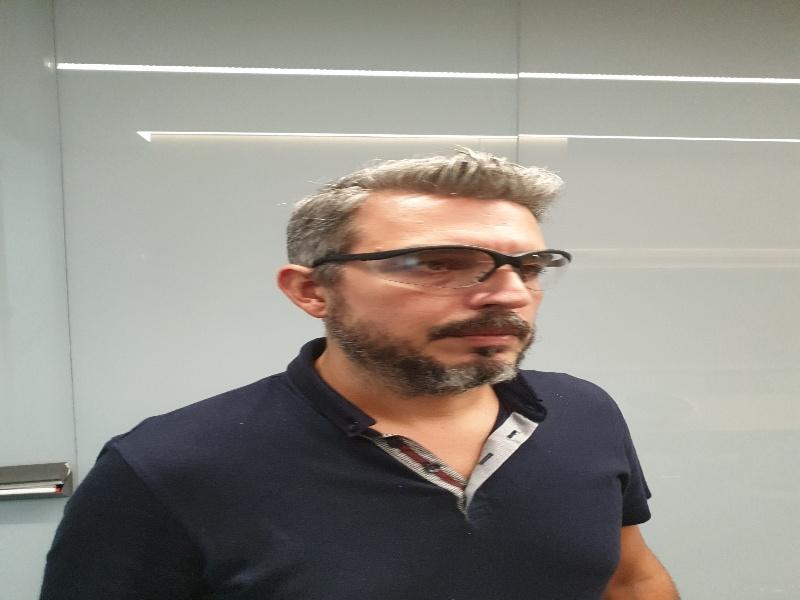Gozluk: (316, 243, 574, 299)
